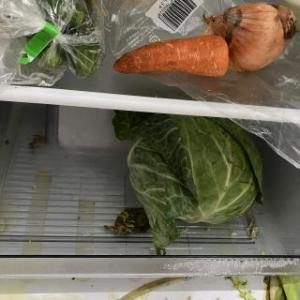cabbage: (112, 108, 266, 248)
carrot: (111, 35, 229, 79)
onion: (204, 3, 298, 74)
